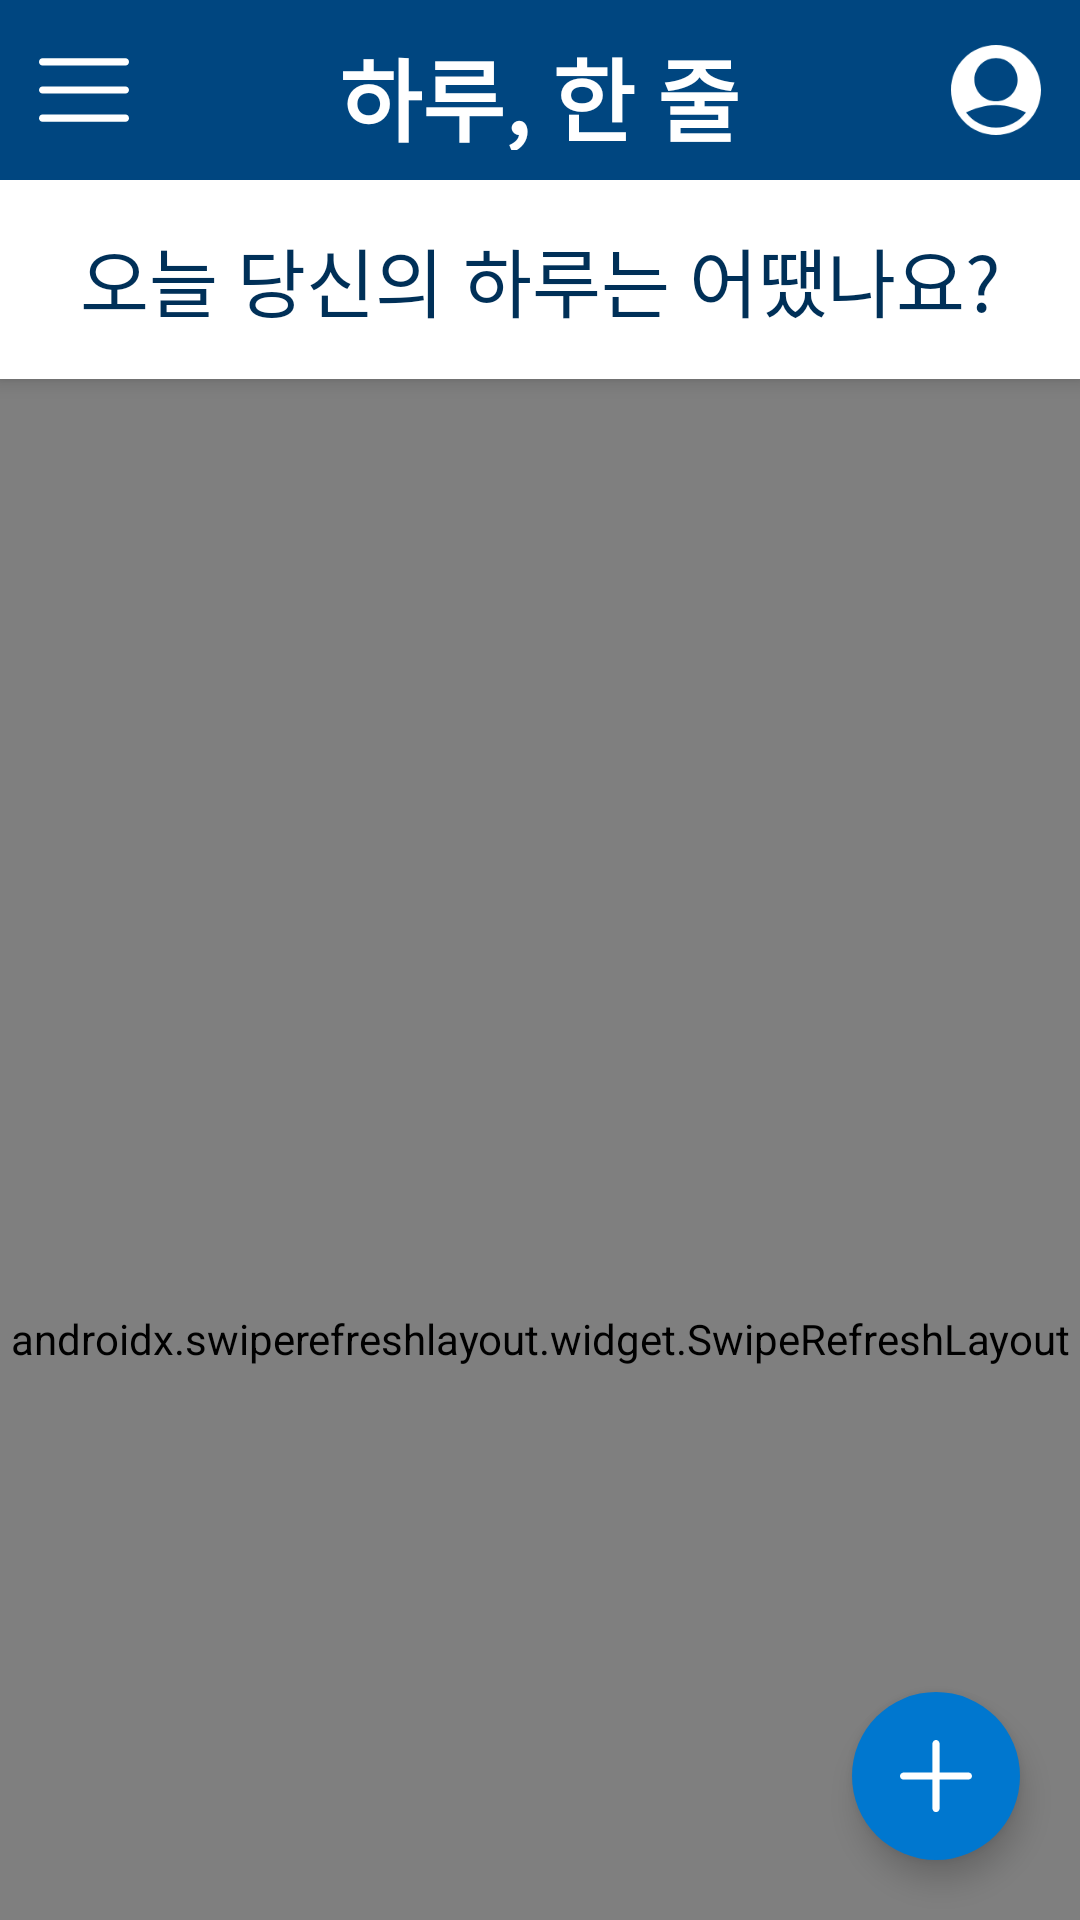

Icons on this 1080px x 1920px Android screen, each with its box as (x1, y1, x2, y2):
menu: (39, 58, 129, 122)
only plus: (852, 1692, 1020, 1860)
user: (951, 45, 1041, 135)
